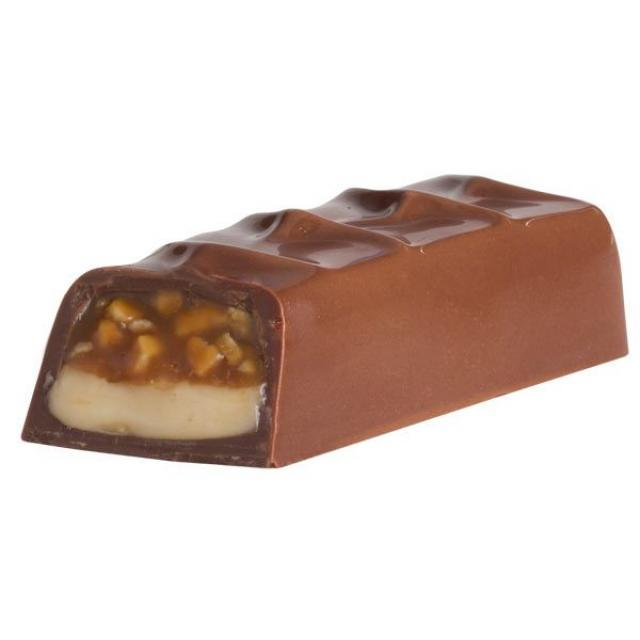Chocolate bar packaged: (23, 173, 633, 465)
